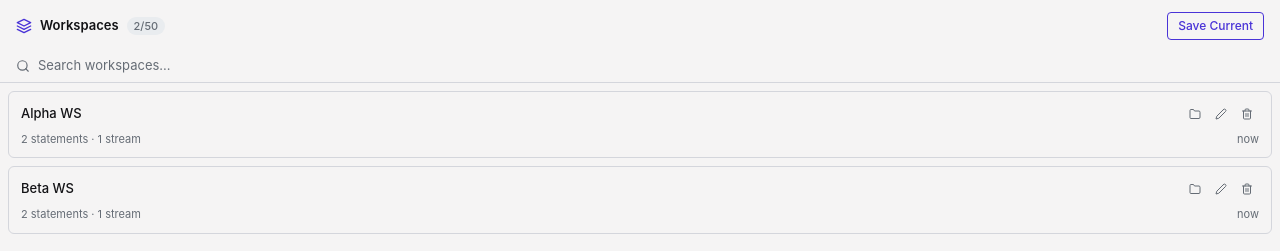
Test: [@workspaces] WorkspacesPanel — search › filters list by search query
In the field labelled "Search workspaces...": (651, 66) [38, 56, 1264, 76], type "alpha"
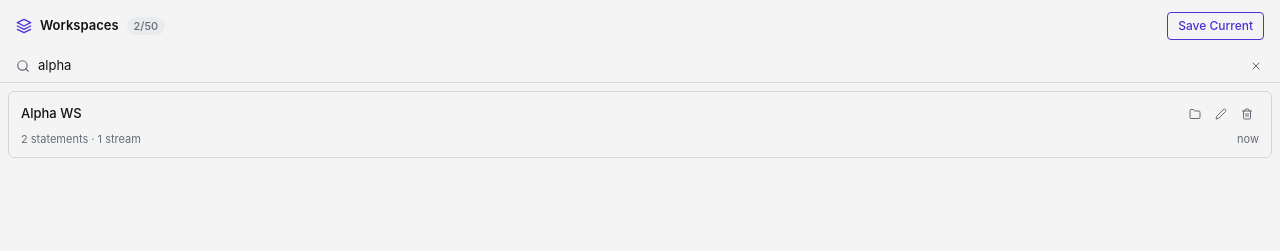
Check: the text "Alpha WS" is shown, box [21, 105, 82, 121]
Check: the text "Beta WS" is gone
